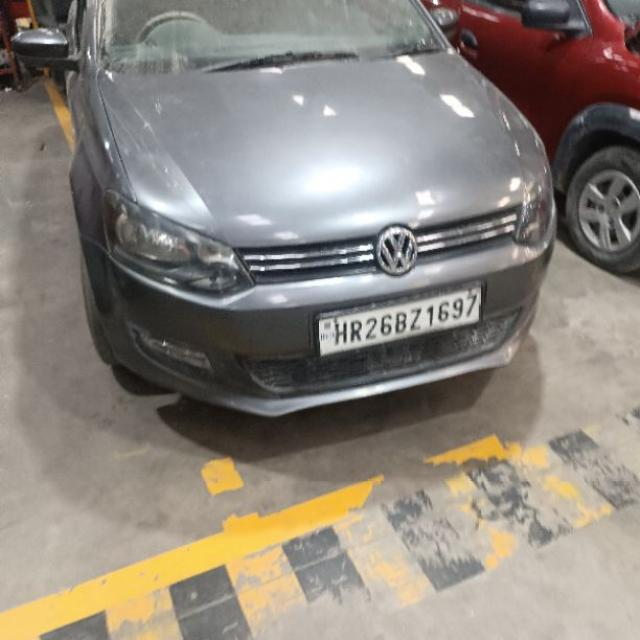license_plate: (313, 281, 484, 358)
